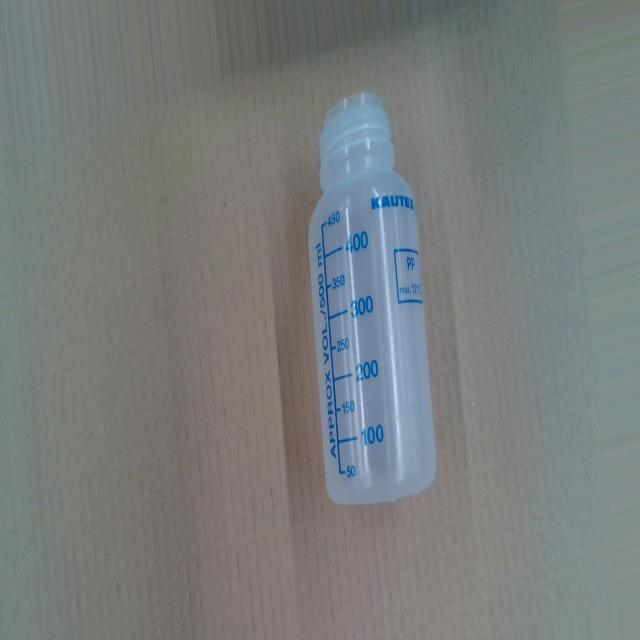bottle: (306, 86, 439, 502)
